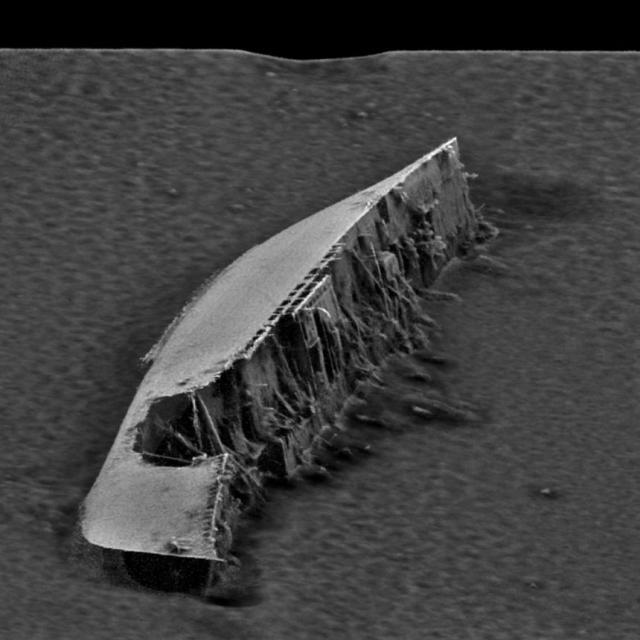shipwreck: (81, 101, 494, 601)
